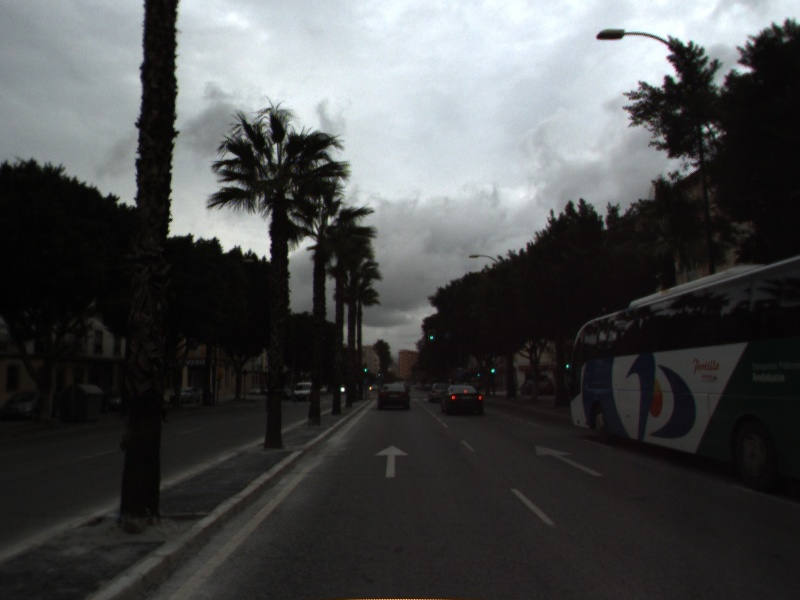STRAIGHT: (532, 442, 605, 478), (373, 443, 411, 479)
